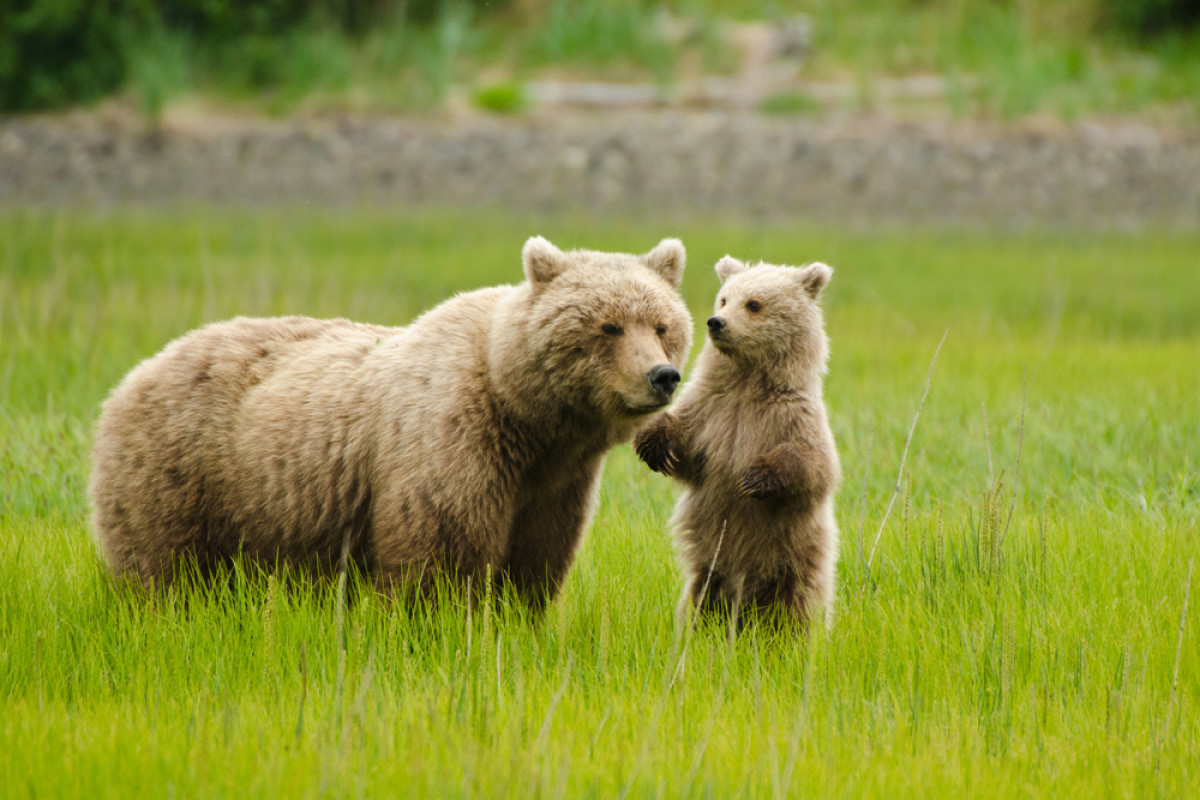bear: (90, 227, 711, 618), (639, 240, 841, 646)
